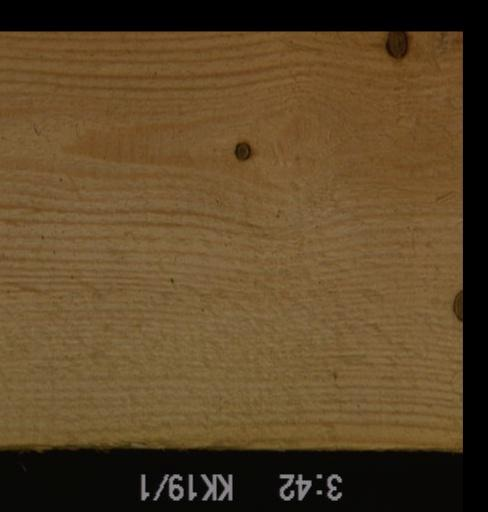dry_knot: (232, 140, 251, 161), (451, 286, 460, 322)
edge_knot: (383, 30, 409, 60)
